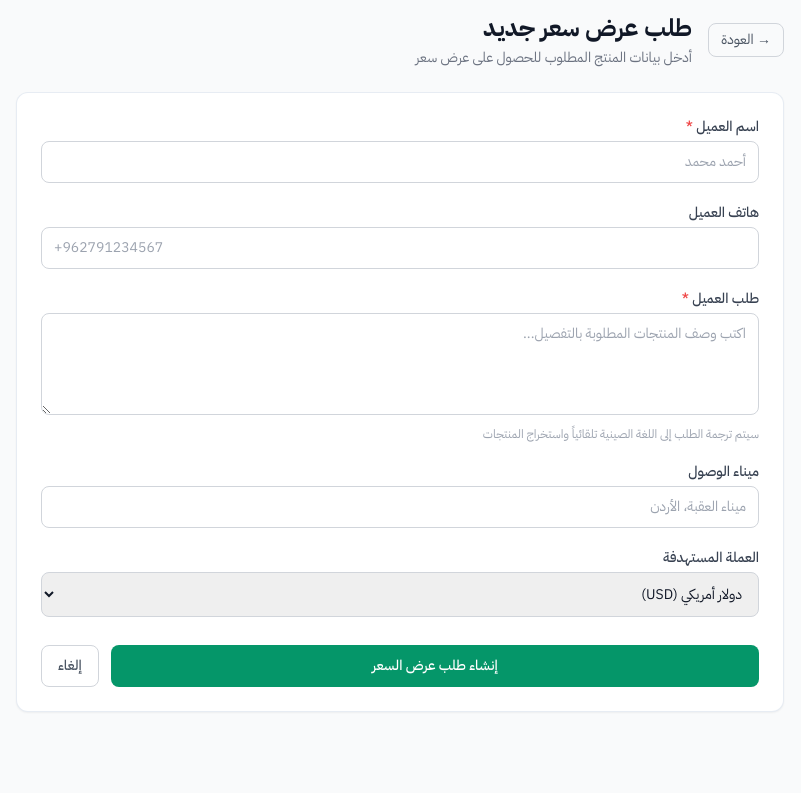
RFQCreatePage › shows a network failure error inline instead of crashing
In the field with placeholder "أحمد محمد": (400, 162) [41, 141, 759, 183], type "Ali Import Co."
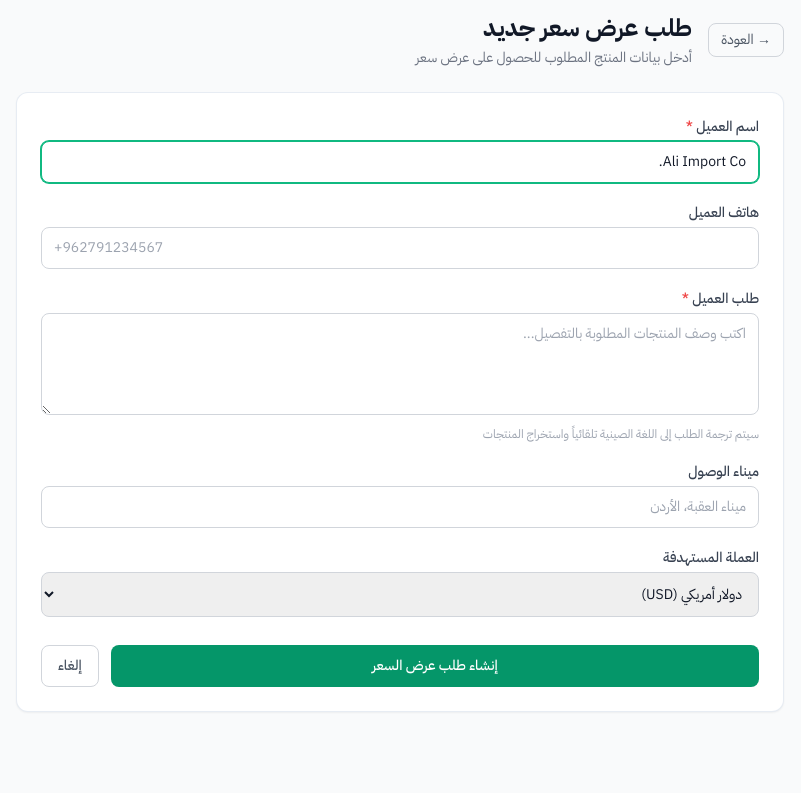
In the text box with placeholder "اكتب وصف المنتجات المطلوبة بالتفصيل...": (400, 364) [41, 313, 759, 415], type "test request"
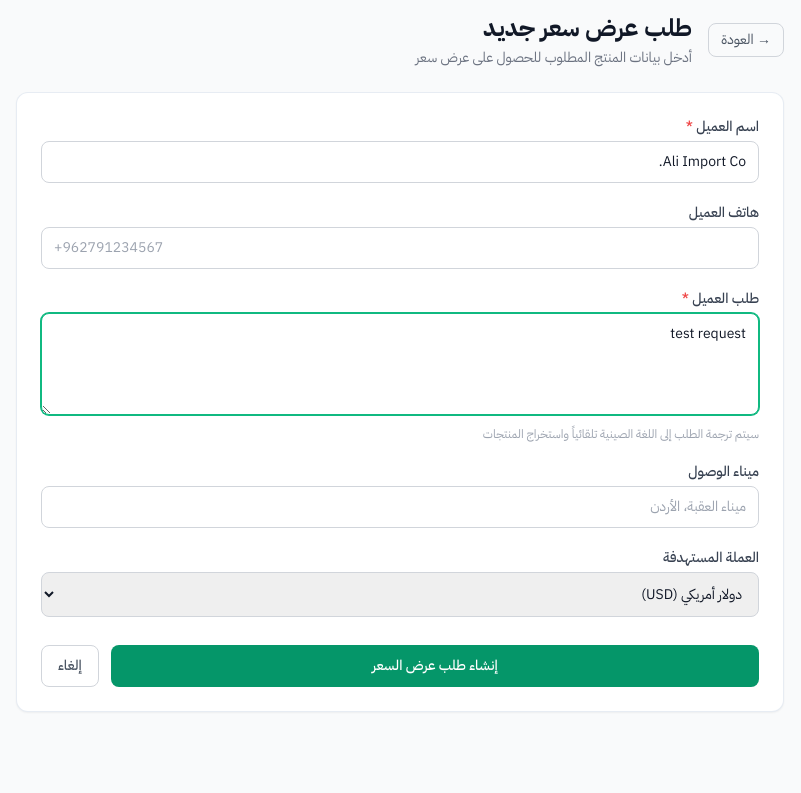
Click the button "إنشاء طلب عرض السعر": (435, 666) [111, 645, 759, 687]
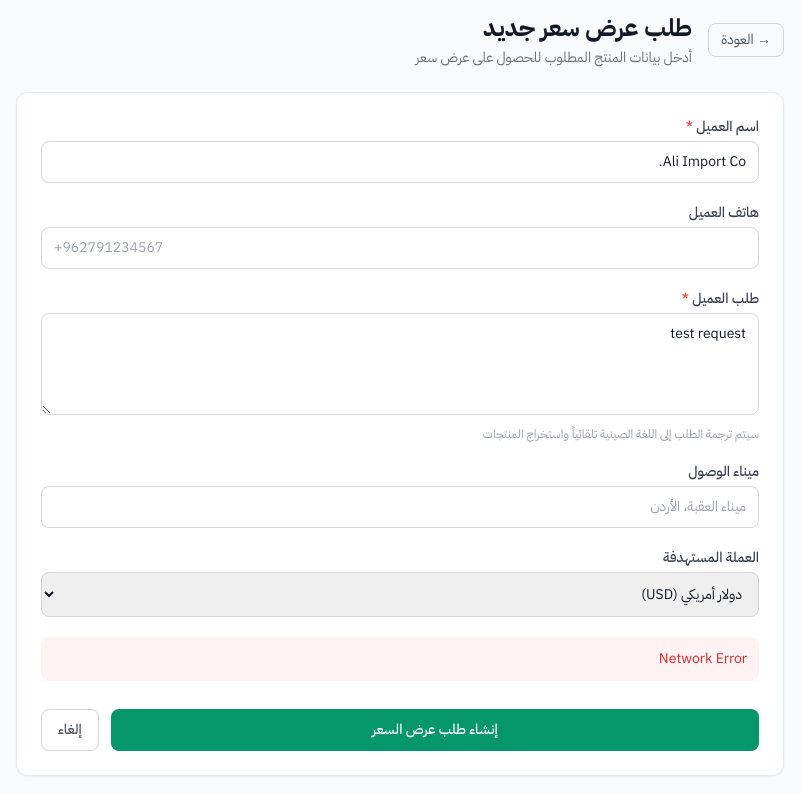
Expected: the text "Network Error" is shown, [41, 637, 759, 681]
